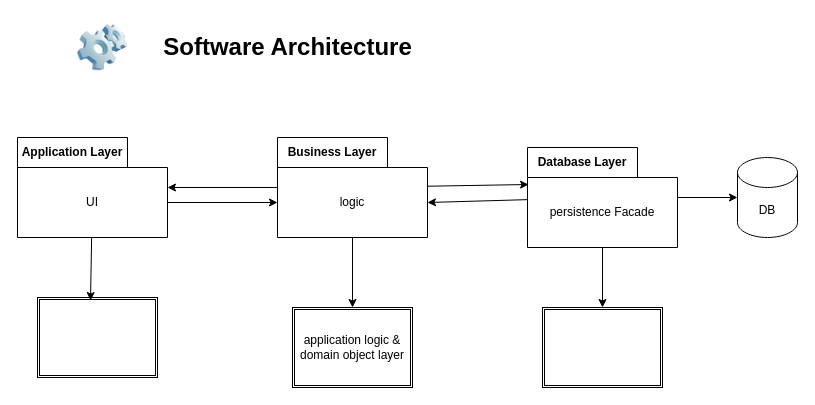
This 815x405 diagram has some shape labels left out. The shapes that lost their labels are listed below. From the top down, each one's centre as x and y in pixels, then its label:
At (97,337): "Program interface".
At (602,347): "technical service layer".
